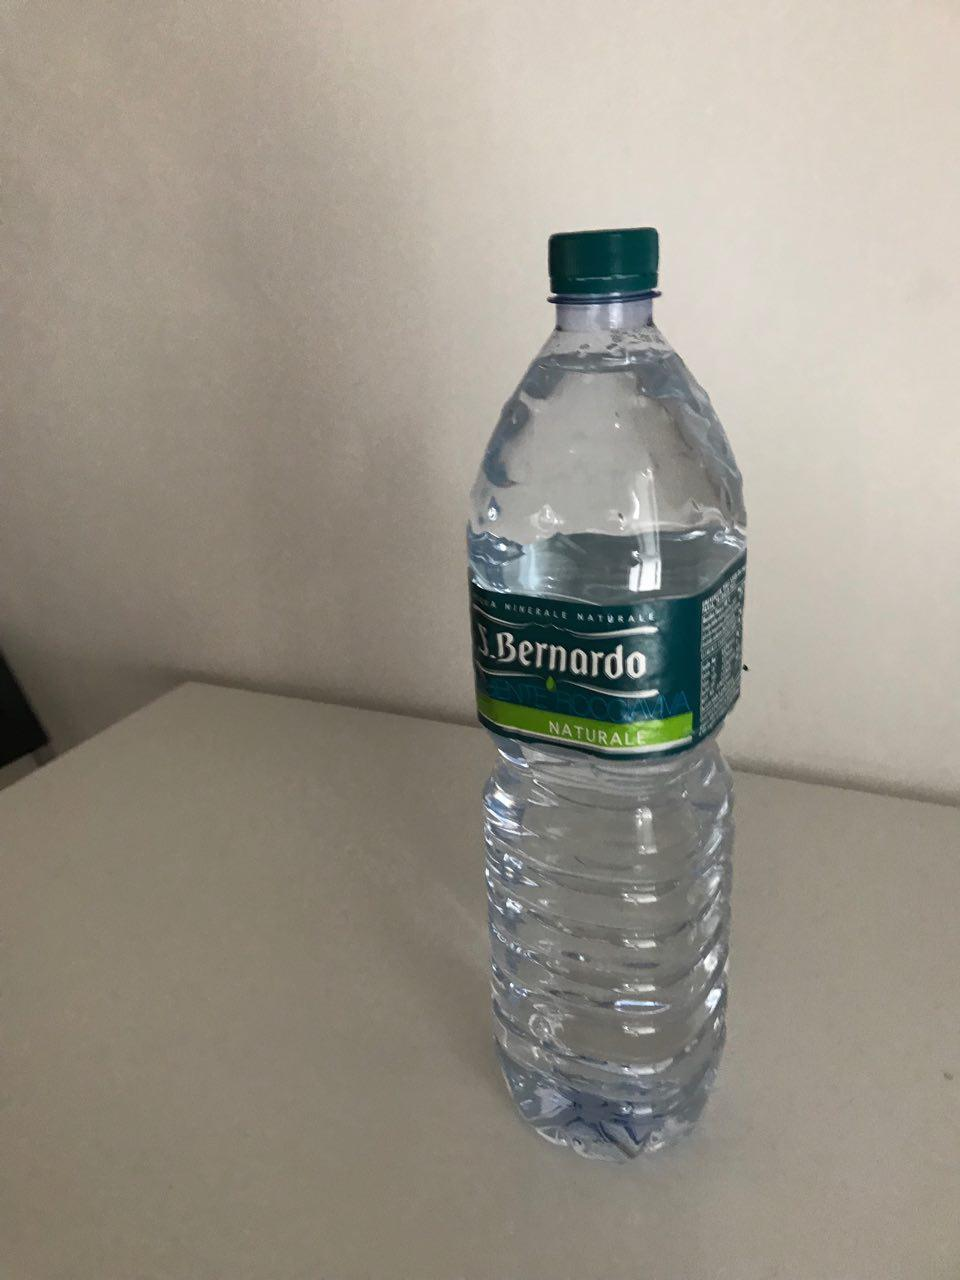san_bernardo: (465, 225, 748, 1166)
